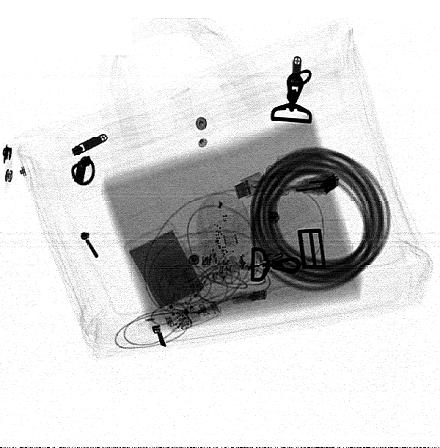Powerbank: (122, 222, 222, 333)
